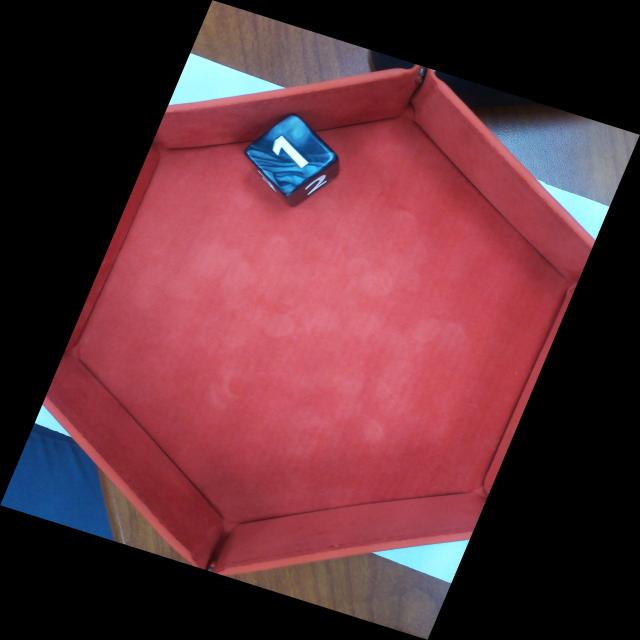dice: (240, 111, 340, 200)
